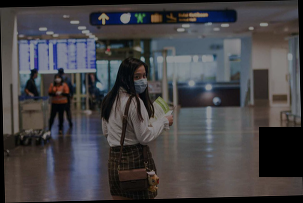with_mask: (132, 70, 148, 94), (53, 75, 63, 84)
